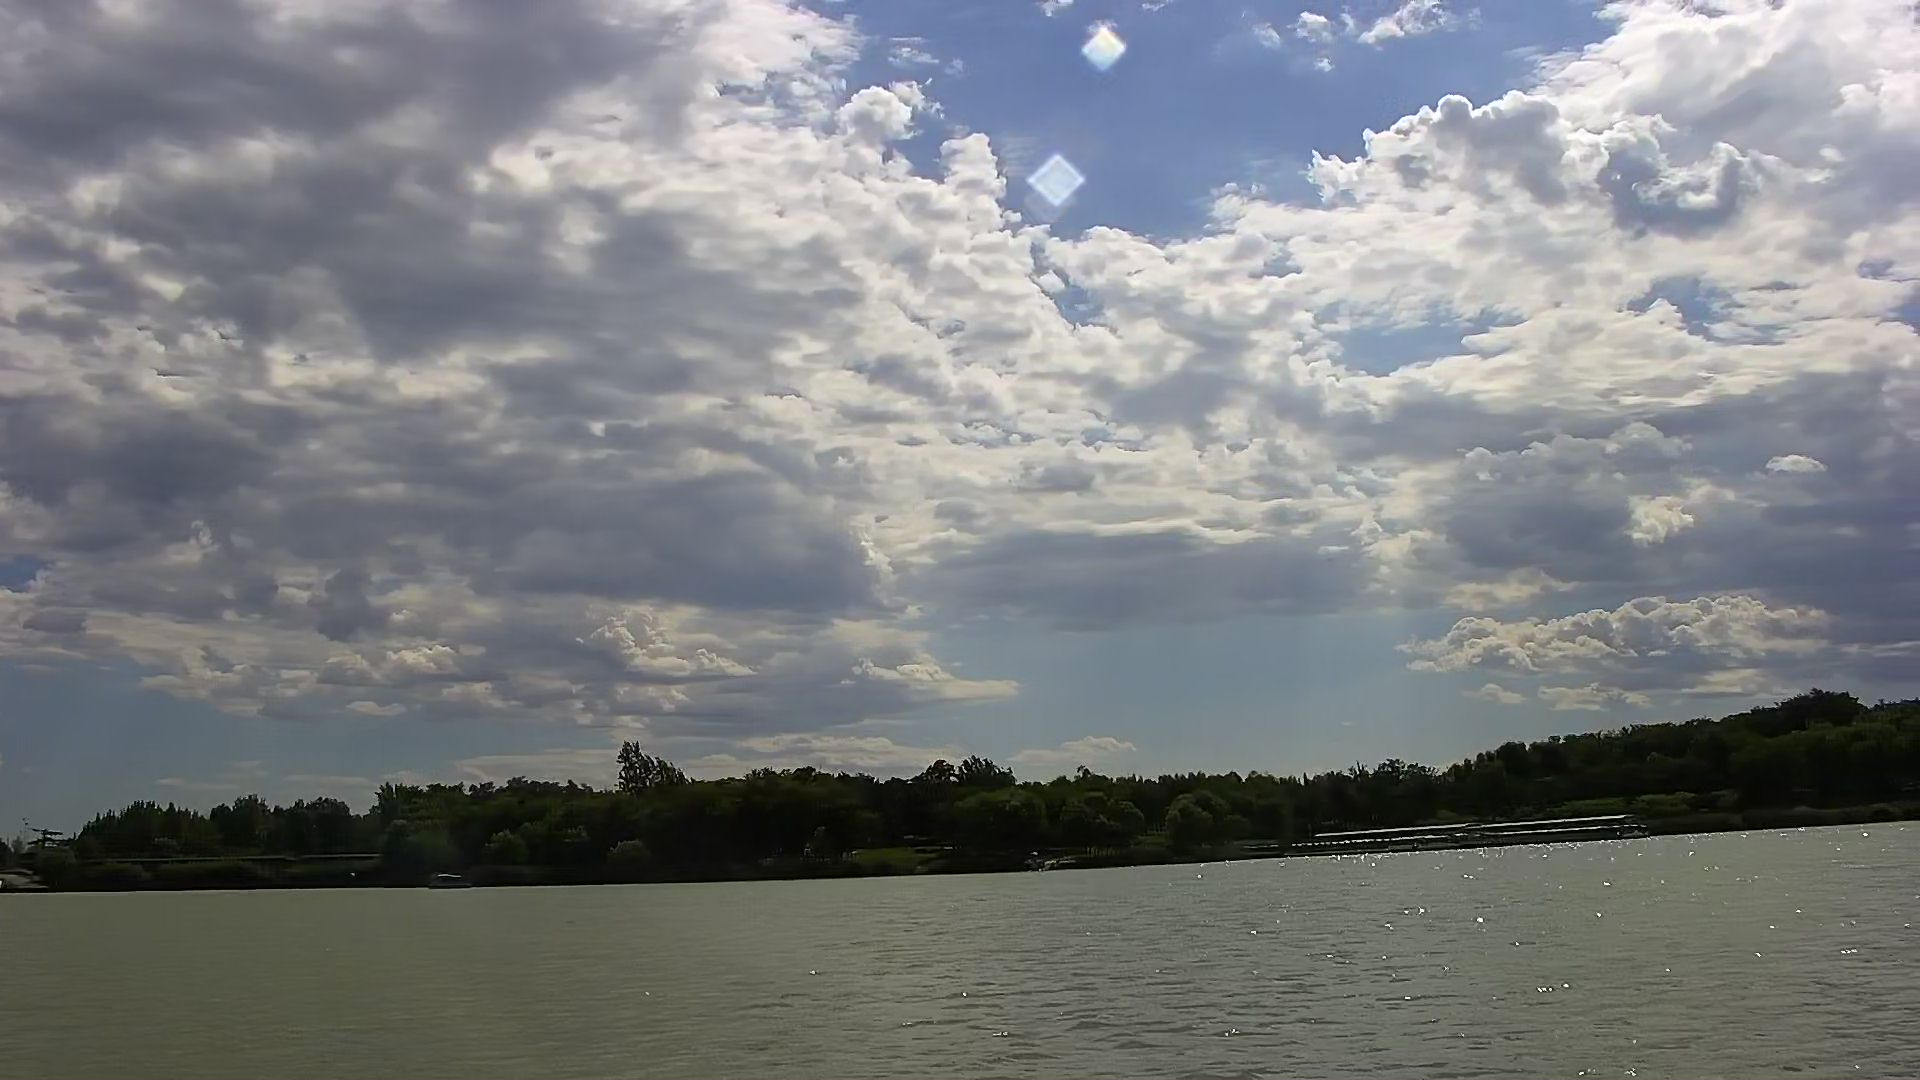harbor: (1283, 806, 1654, 858)
